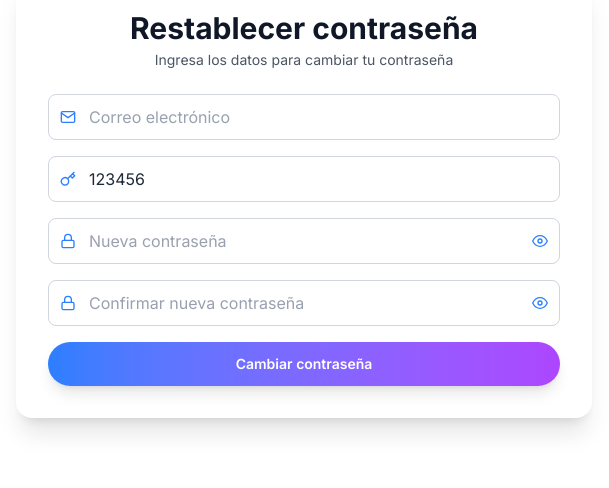
Scenario: ResetPasswordForm › muestra mensaje de error del backend
Type "pablo@test.com" into the field with placeholder "Correo electrónico" at {"x": 304, "y": 117}, box [48,94,560,140]
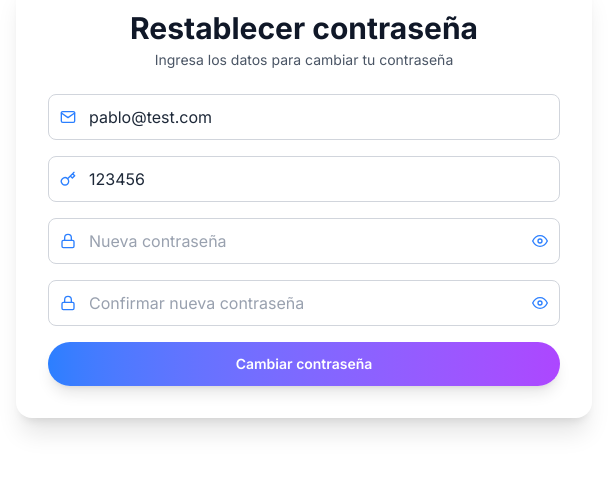
Replace the text in the 2nd field with placeholder "Código de verificación" with "000000" at {"x": 304, "y": 179}, box [48,156,560,202]
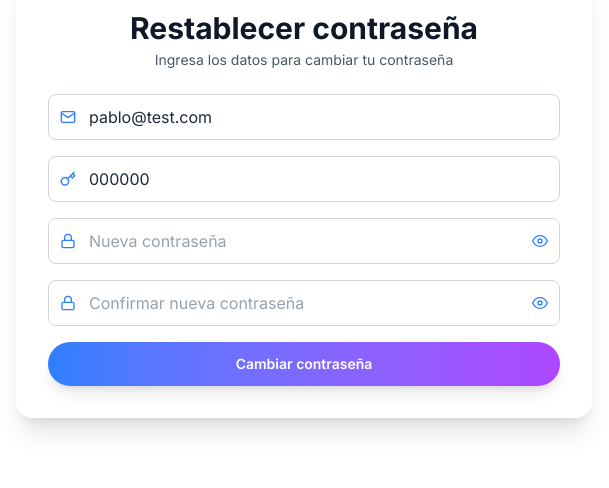
Type "Password123!" into the password field with placeholder "Nueva contraseña" at {"x": 304, "y": 241}, box [48,218,560,264]
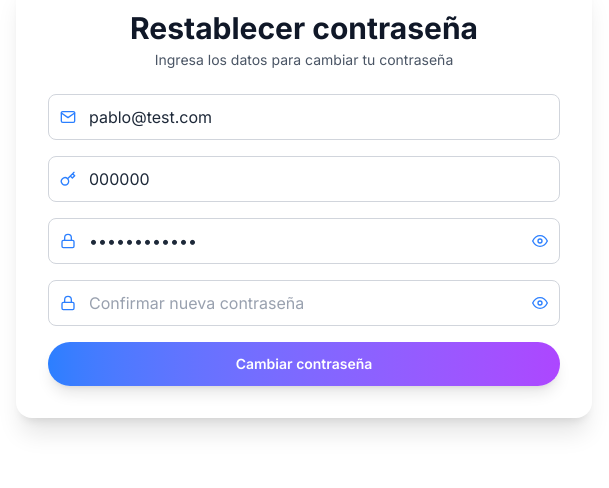
Type "Password123!" into the password field with placeholder "Confirmar nueva contraseña" at {"x": 304, "y": 303}, box [48,280,560,326]
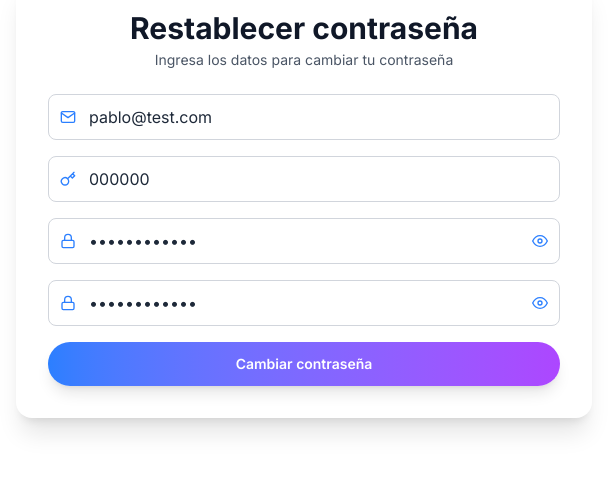
Click the button "Cambiar contraseña" at {"x": 304, "y": 364}, box [48,342,560,386]
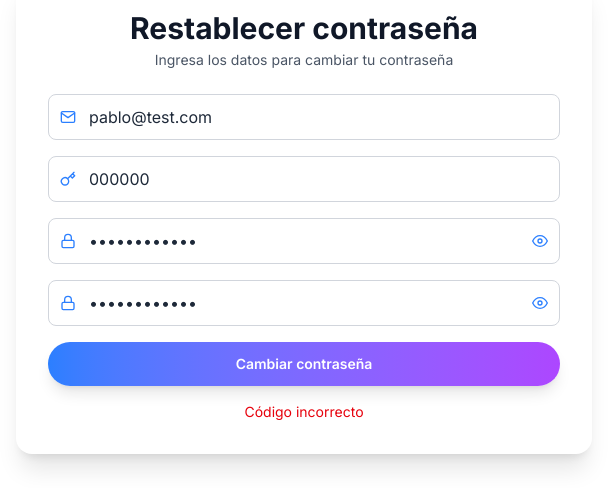
Result: the text "Código incorrecto" is shown at [244,403,364,420]
